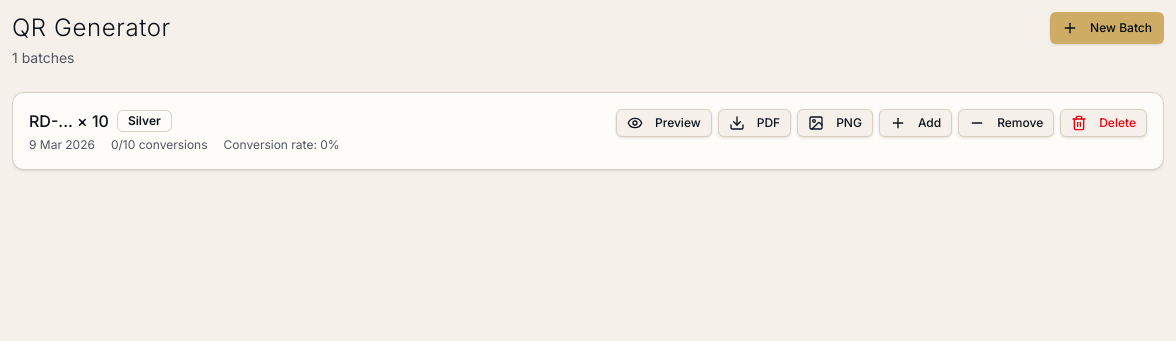
Test: AdminQrGeneratorPage › Add form shows error message on failed append
Step 1. Click the button "Add" → (916, 123), box x1=879 y1=109 x2=952 y2=137
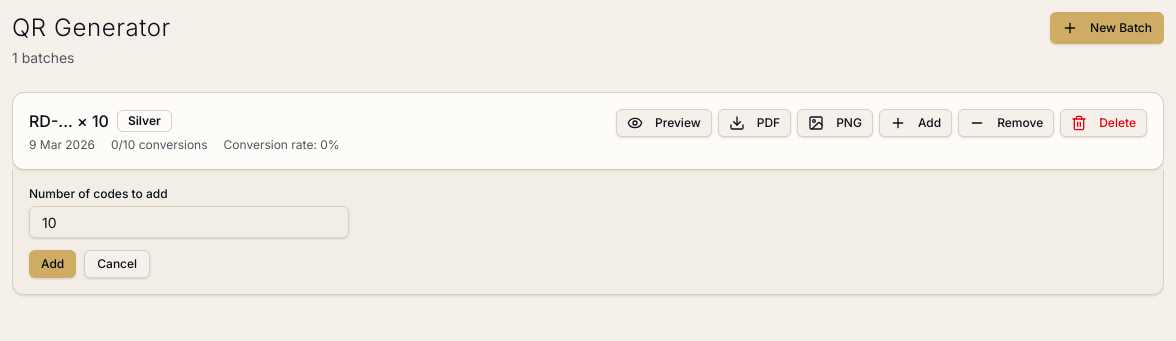
Expected: the text "Number of codes to add" is shown, x1=29 y1=186 x2=168 y2=201
Step 2. Click the button "Add" below "Number of codes to add" → (53, 264), box x1=29 y1=250 x2=76 y2=278
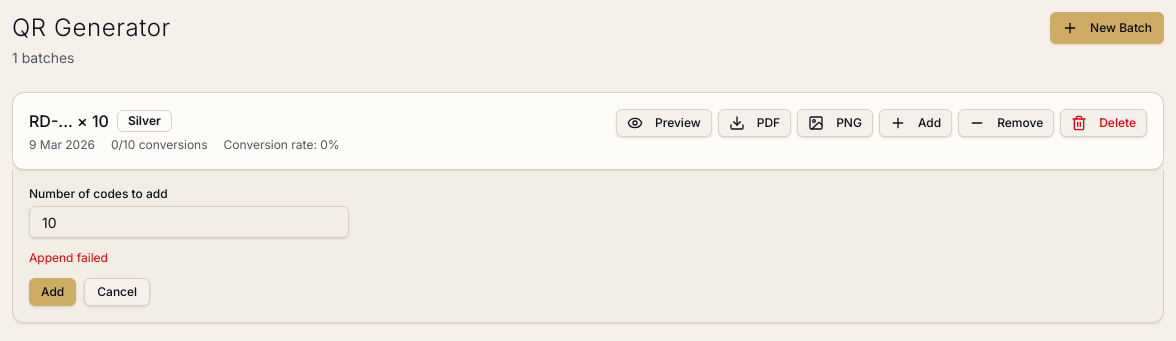
Expected: the text "Append failed" is shown, x1=29 y1=250 x2=108 y2=265
